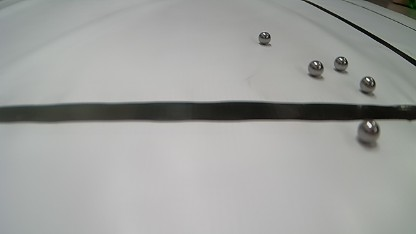ironball: (357, 119, 380, 143), (360, 76, 376, 93), (308, 60, 324, 76), (334, 56, 348, 71), (258, 31, 271, 44)
